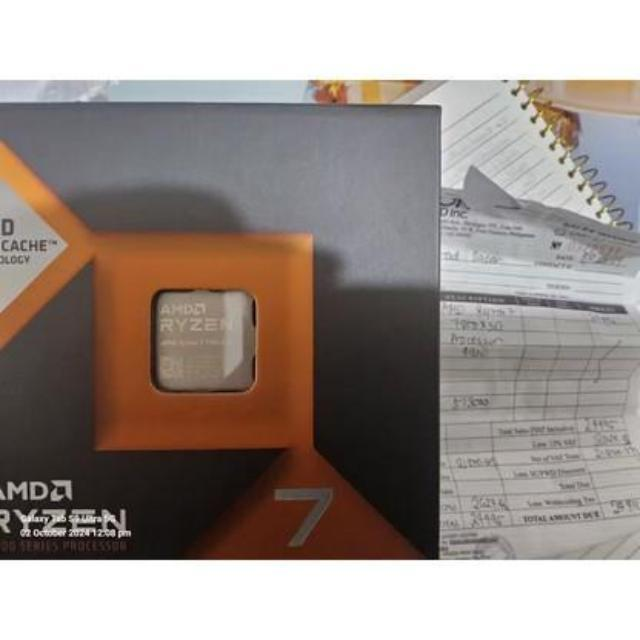CPU: (142, 272, 264, 404)
